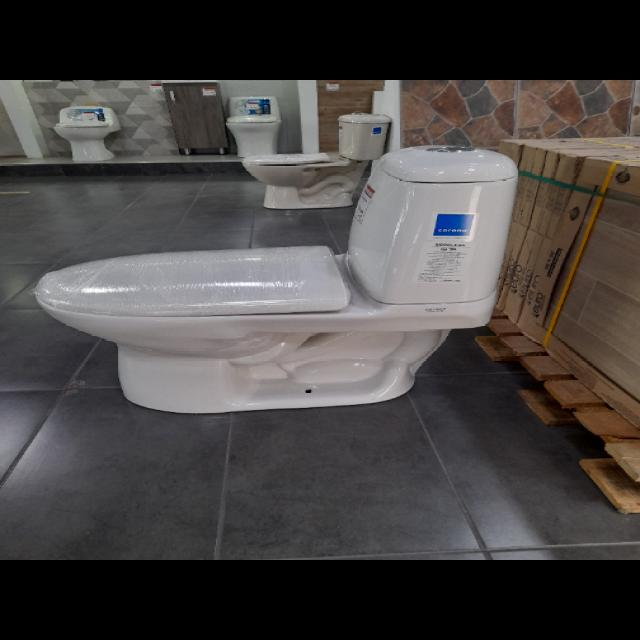toilet: (32, 137, 524, 418)
